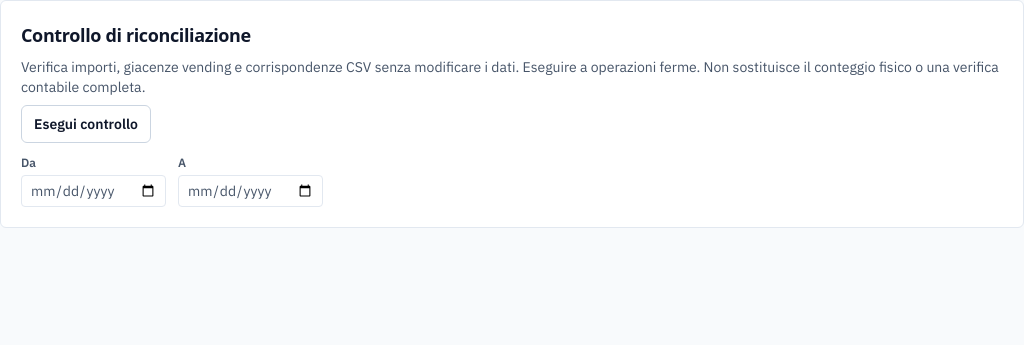
Test: controllo esplicito, stato occupato e risultato senza certificare le righe non confrontabili
Later steps or results of the test are not shown.
Click the button "Esegui controllo" at (86, 124), box left=21, top=105, right=151, bottom=143
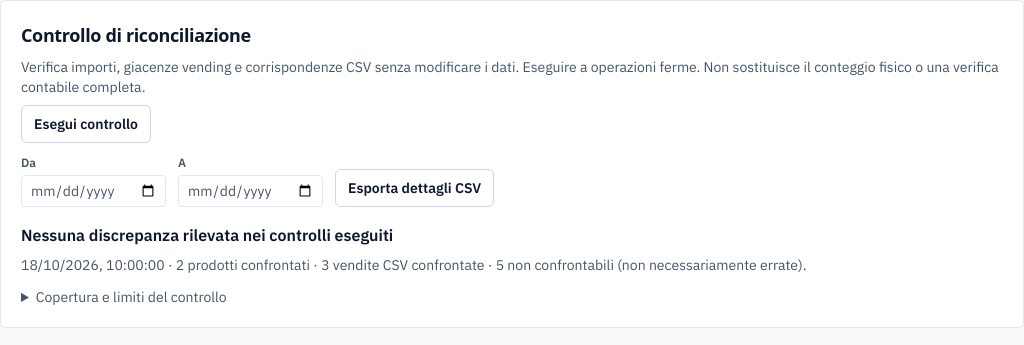
Result: the text "Nessuna discrepanza rilevata nei controlli eseguiti" is shown at left=21, top=225, right=393, bottom=245
Result: the text "5 non confrontabili (non necessariamente errate)" is shown at left=21, top=256, right=806, bottom=274
